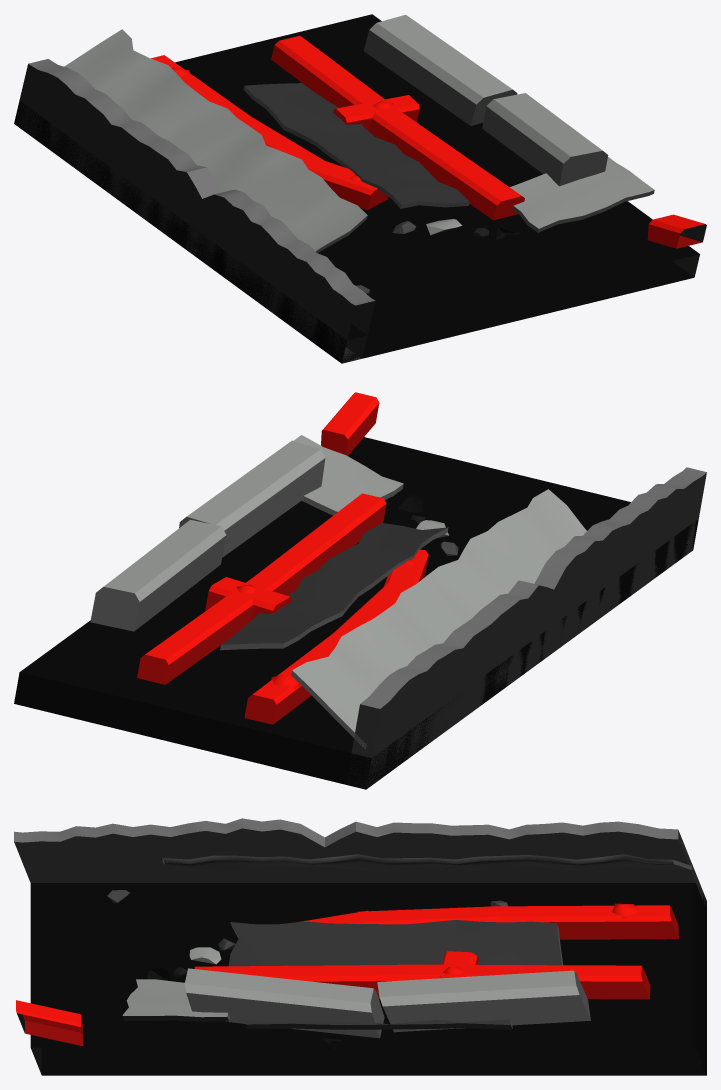
The model's file is roof_hangar_ml_wreck.glb.
The picture shows the model from 3 angles, top to bottom: view 1: azimuth 30°, elevation 25°; view 2: azimuth 150°, elevation 25°; view 3: azimuth 270°, elevation 25°; orthographic projection.
Visible parts, largest first — view 1: roof_hangar_ml_wreck; view 2: roof_hangar_ml_wreck; view 3: roof_hangar_ml_wreck.
Boxes of the visible parts, left/top/right/bottom form: roof_hangar_ml_wreck: left=14, top=14, right=706, bottom=363; roof_hangar_ml_wreck: left=14, top=392, right=706, bottom=789; roof_hangar_ml_wreck: left=14, top=818, right=706, bottom=1075.
Size of the model in its own units: 17.4 by 4.05 by 29.17.
